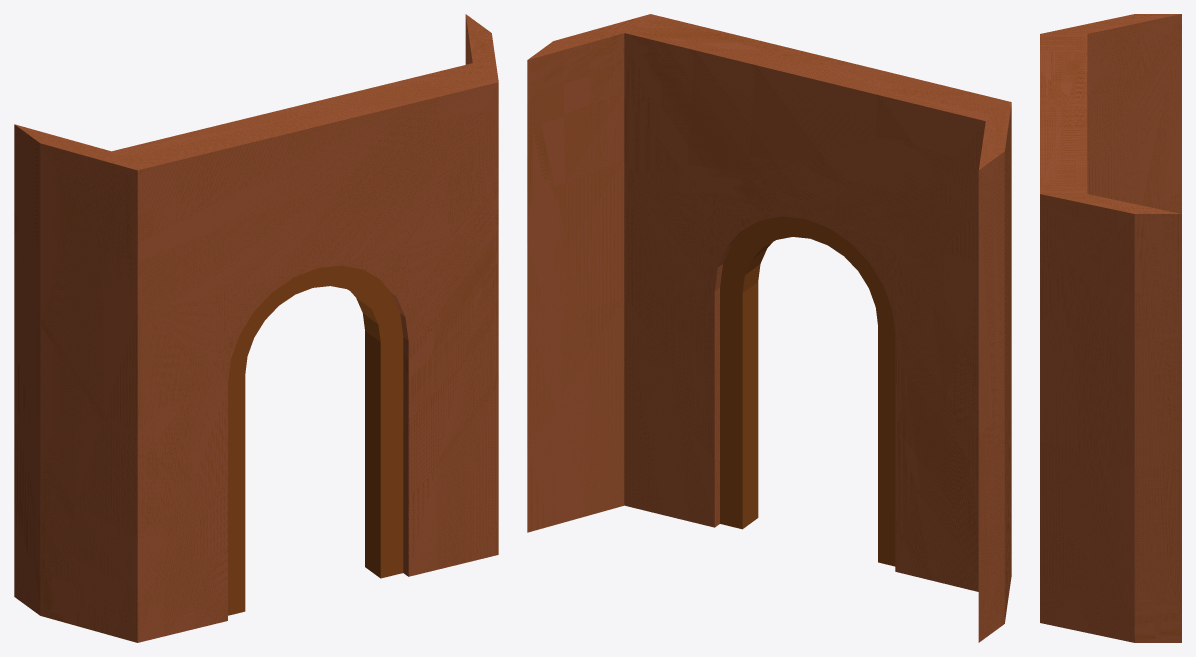
The model's file is doorway_bay_rounded.fbx.
The picture shows the model from 3 angles, left to right: view 1: azimuth 30°, elevation 25°; view 2: azimuth 150°, elevation 25°; view 3: azimuth 270°, elevation 25°; orthographic projection. The views are drawn at different scales.
Visible parts, largest first — view 1: Mesh1_wall_5_1 Model; view 2: Mesh1_wall_5_1 Model; view 3: Mesh1_wall_5_1 Model.
Boxes of the visible parts, <box> form: Mesh1_wall_5_1 Model: <box>14,14,498,642</box>; Mesh1_wall_5_1 Model: <box>527,14,1011,642</box>; Mesh1_wall_5_1 Model: <box>1040,14,1181,642</box>.
Size of the model in its own units: 1 by 1 by 0.3.
